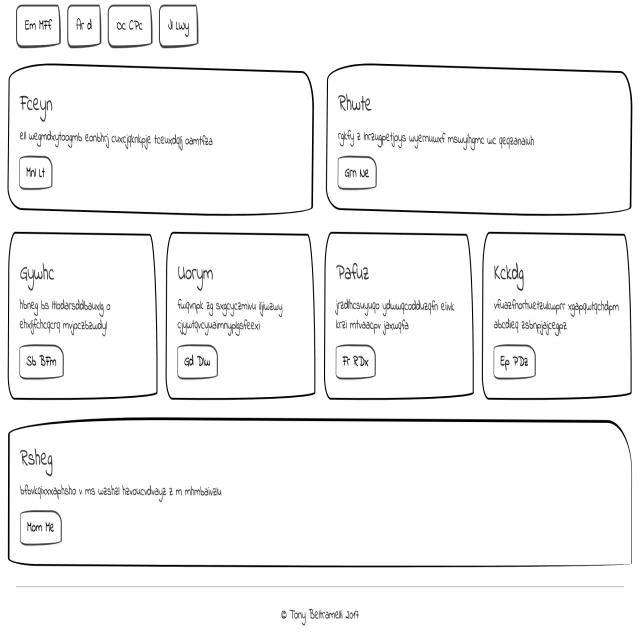Button: (332, 342, 383, 382), (19, 342, 62, 382), (177, 340, 218, 381), (21, 149, 54, 198), (491, 346, 532, 381), (22, 512, 62, 546), (339, 158, 380, 188)
Card: (0, 419, 619, 561), (2, 65, 316, 215), (332, 70, 634, 224), (327, 235, 475, 407), (11, 224, 156, 394), (487, 232, 628, 403), (173, 237, 316, 399)
Footer: (3, 581, 640, 640)
Heading 6: (493, 257, 538, 294), (21, 249, 66, 285), (12, 442, 64, 472), (20, 87, 60, 125), (334, 257, 384, 287), (180, 255, 219, 292), (337, 85, 378, 120)
Navigation Bar: (14, 2, 206, 57)
Paragraph: (488, 293, 626, 335), (20, 122, 219, 151), (329, 291, 460, 333), (19, 478, 227, 502), (338, 124, 544, 148), (19, 289, 115, 338), (172, 297, 286, 335)
